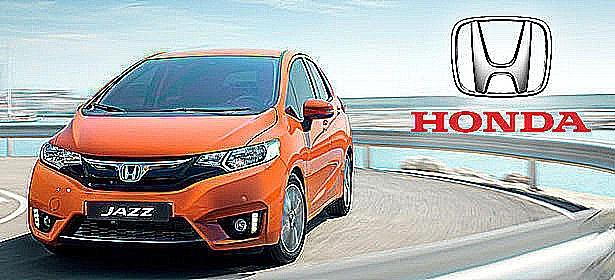Car hood: (45, 102, 278, 161)
Fender - -F-L-: (247, 101, 311, 224)
Front bumper: (21, 168, 289, 265)
Headlight - -L-: (187, 135, 287, 177)
Headlight - -R-: (37, 138, 90, 178)
Passenger-s door - -F-L-: (290, 57, 335, 210)
Passenger-s door - -R-L-: (303, 55, 352, 198)
Side bumper - -L-: (298, 188, 351, 226)
Side mirror - -L-: (300, 94, 346, 129)
